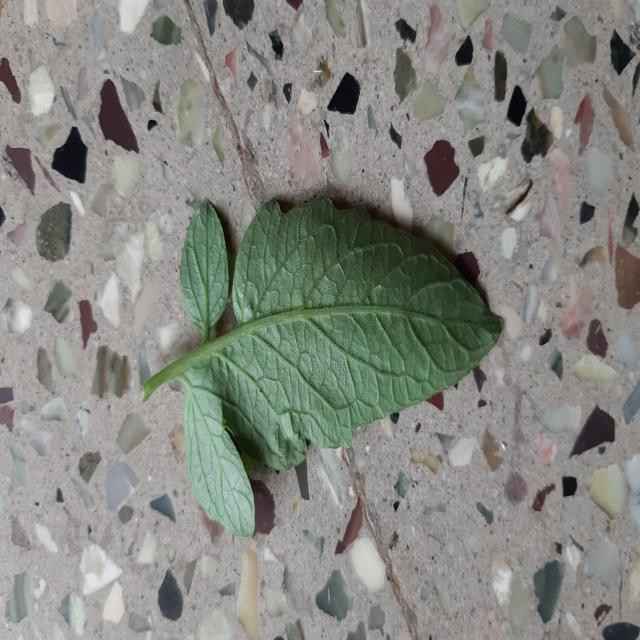tomato: (142, 200, 501, 536)
